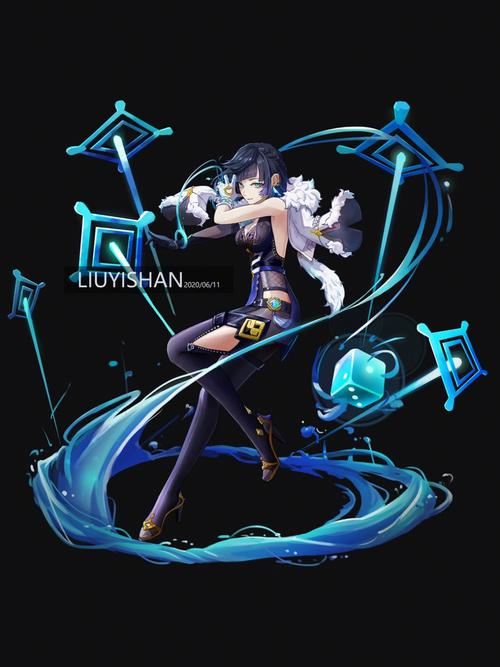夜兰: (136, 142, 296, 548)
